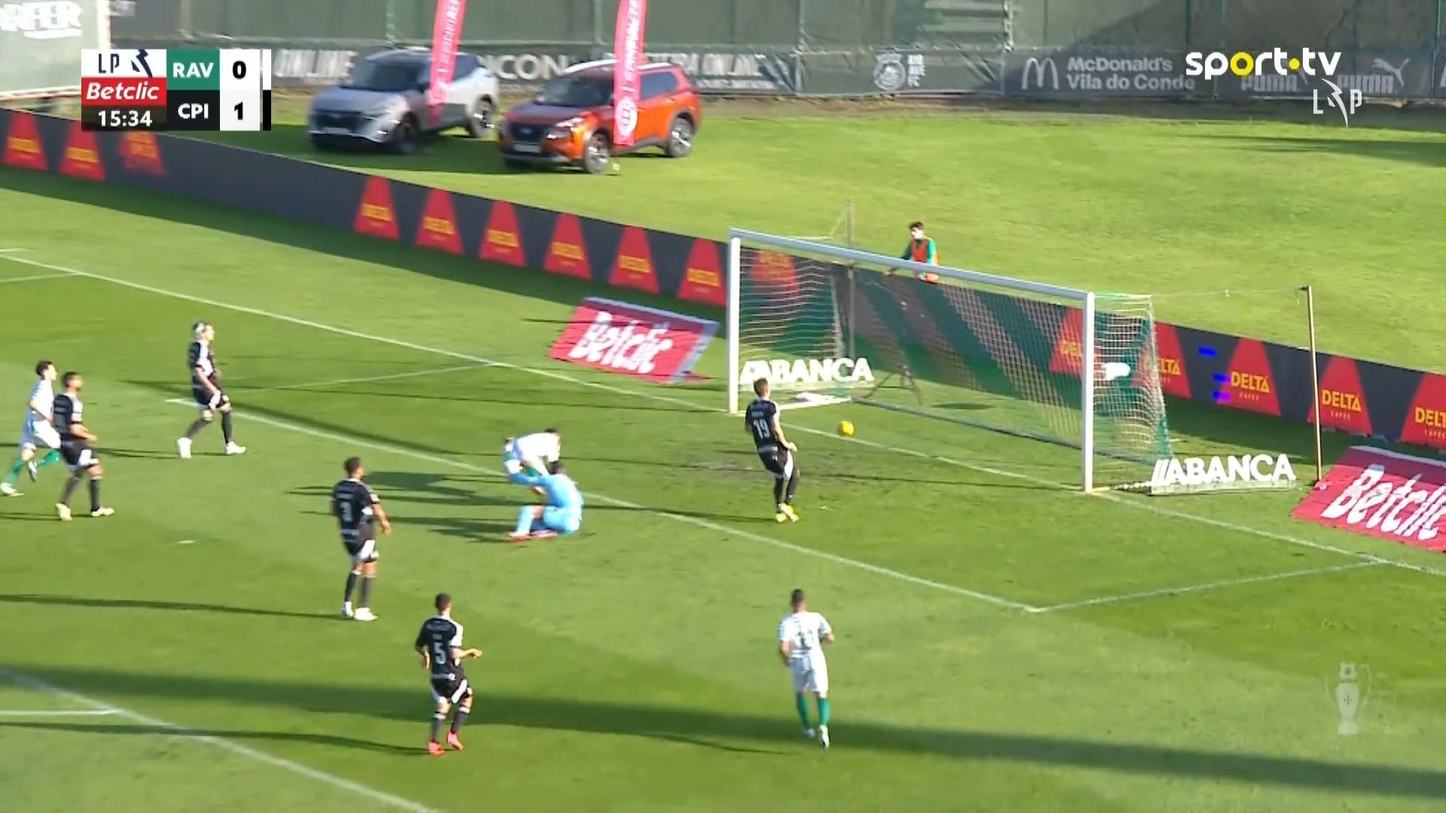ball: (838, 419, 854, 437)
goalkeeper: (506, 460, 585, 545)
player: (413, 591, 482, 756), (330, 455, 391, 621), (175, 319, 246, 458), (50, 370, 114, 519), (776, 587, 835, 748), (0, 358, 62, 496), (743, 376, 801, 523), (501, 427, 564, 488)
